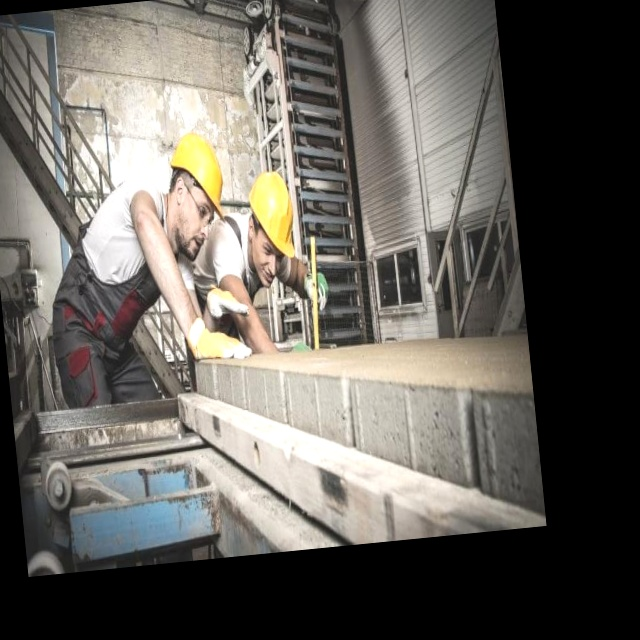Con_Casco: (163, 132, 229, 264), (245, 170, 299, 290)
